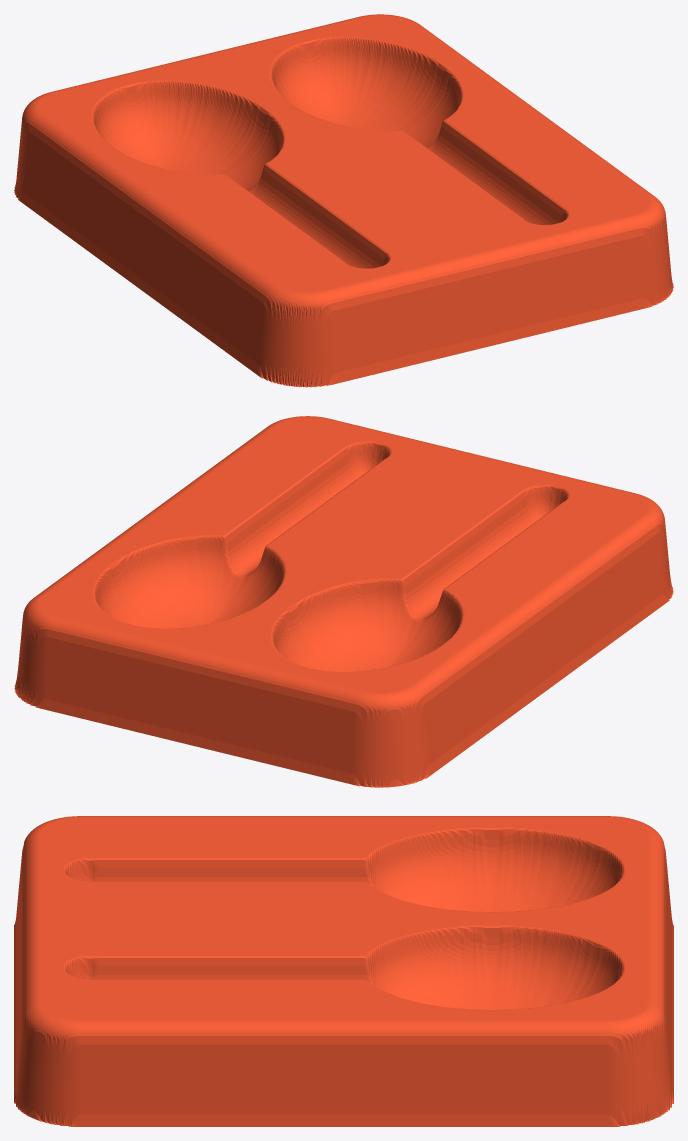
Rendered from mold.glb.
3 views of the same model, one above another, from view 1: azimuth 30°, elevation 25°; view 2: azimuth 150°, elevation 25°; view 3: azimuth 270°, elevation 25° (orthographic). The views are drawn at different scales.
Visible parts, largest first — view 1: geometry_0; view 2: geometry_0; view 3: geometry_0.
Boxes of the visible parts, left/top/right/bottom form: geometry_0: left=14, top=14, right=673, bottom=387; geometry_0: left=14, top=416, right=673, bottom=787; geometry_0: left=14, top=816, right=673, bottom=1126.
Bounding box in the file's own units: 0.0731 × 0.0145 × 0.0908.
